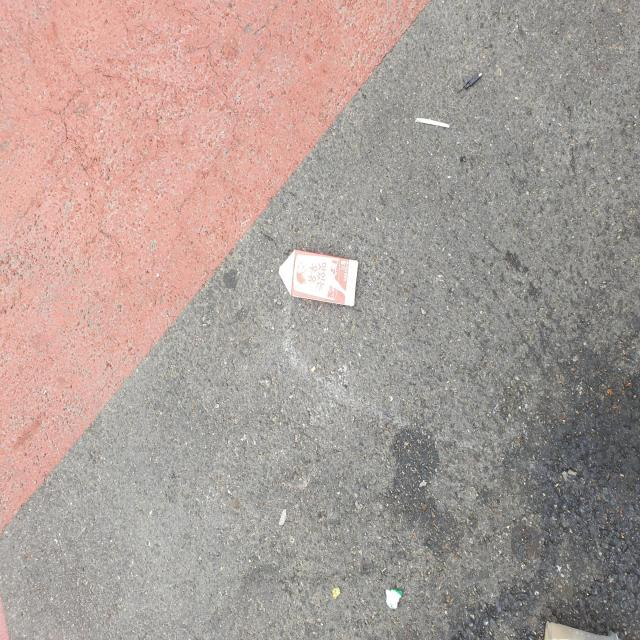paperpack: (279, 249, 358, 306)
